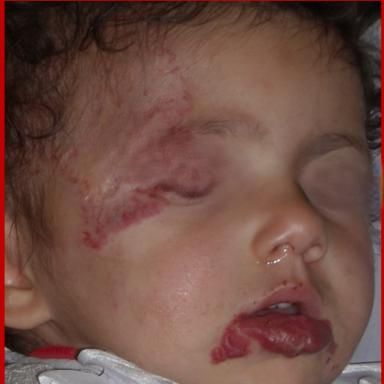Hemangiome: (212, 312, 332, 363)
